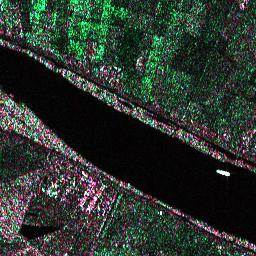ship: (214, 166, 233, 179)
